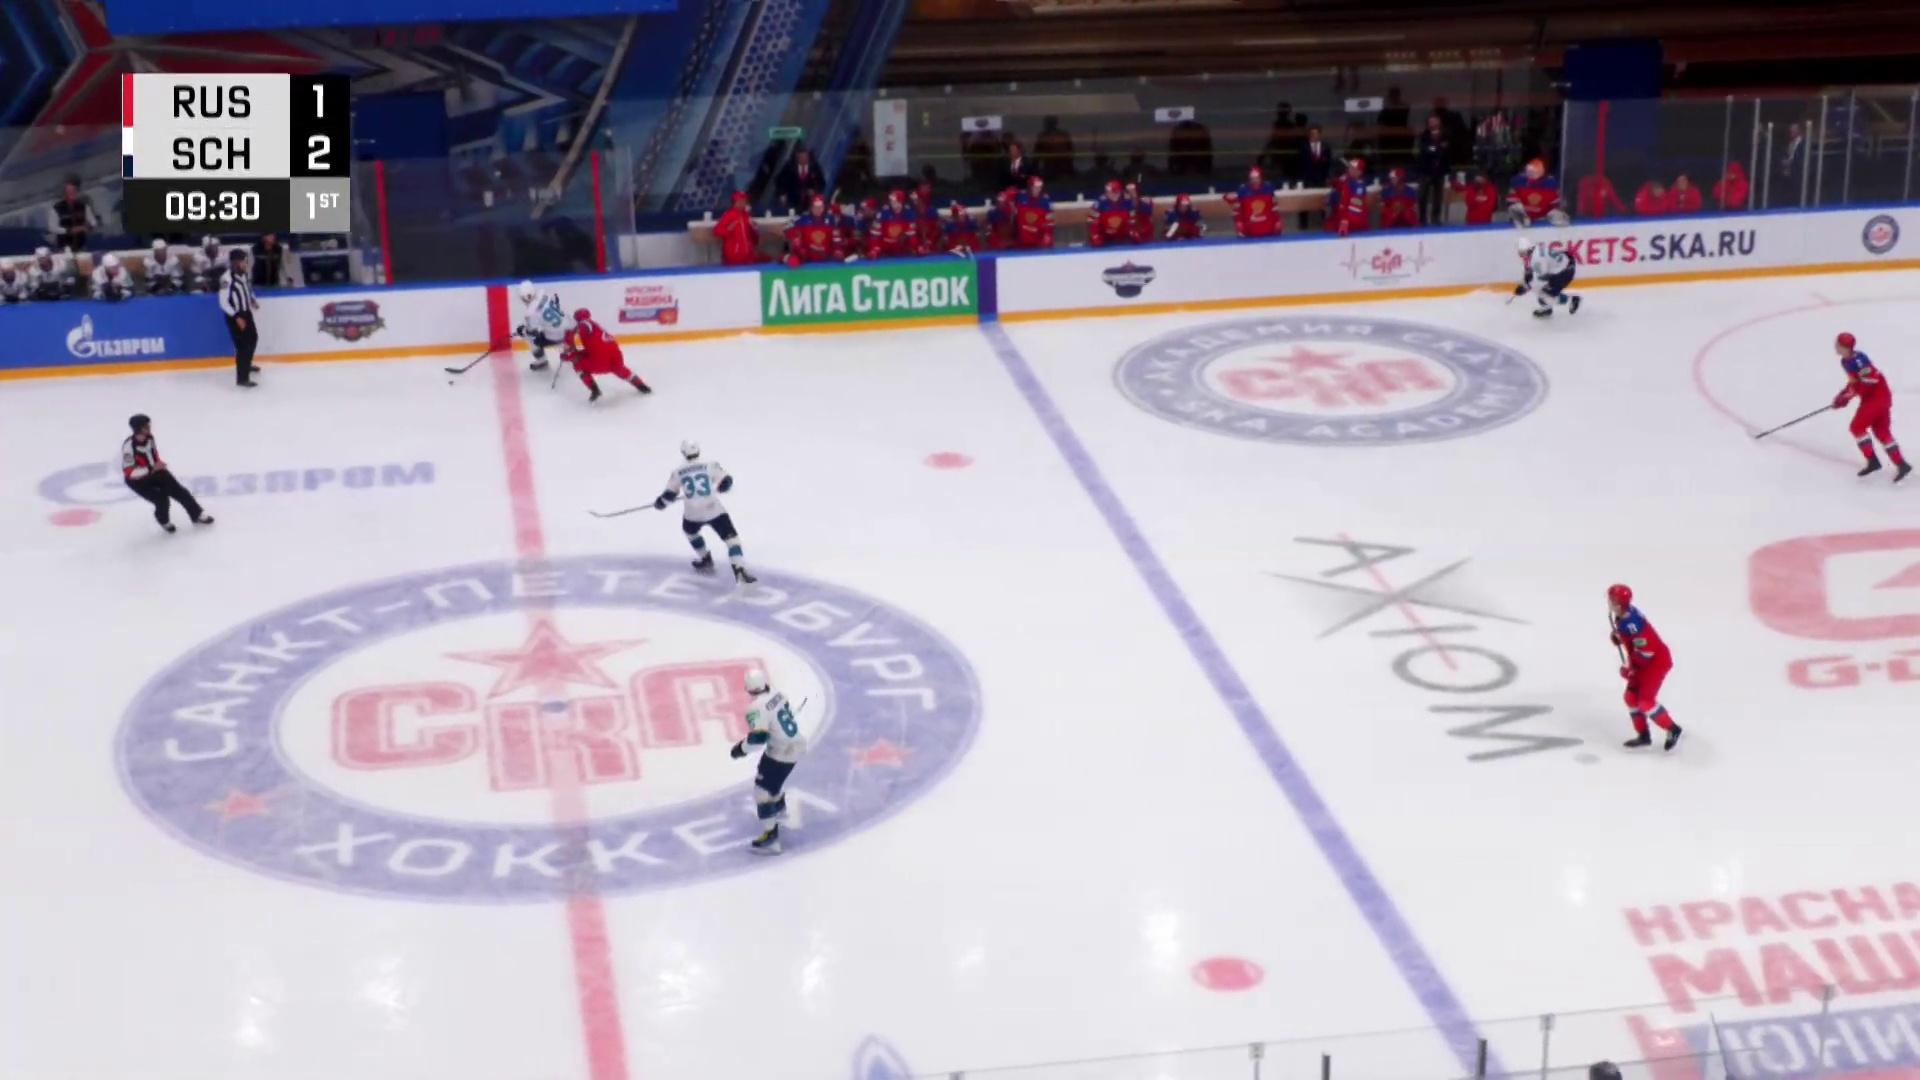ball: (448, 380, 455, 386)
